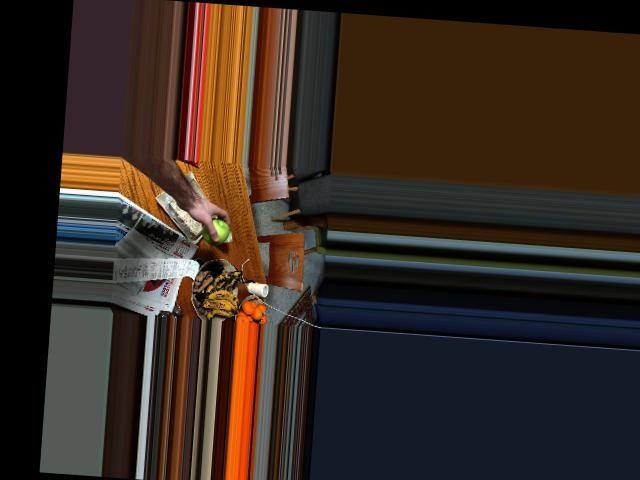apple: (199, 215, 231, 246)
